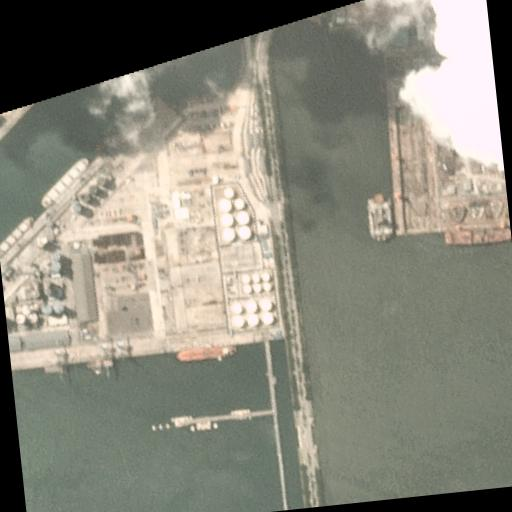ship: (36, 155, 94, 210), (364, 190, 398, 244), (443, 222, 512, 248), (172, 342, 236, 362), (0, 261, 8, 302)
